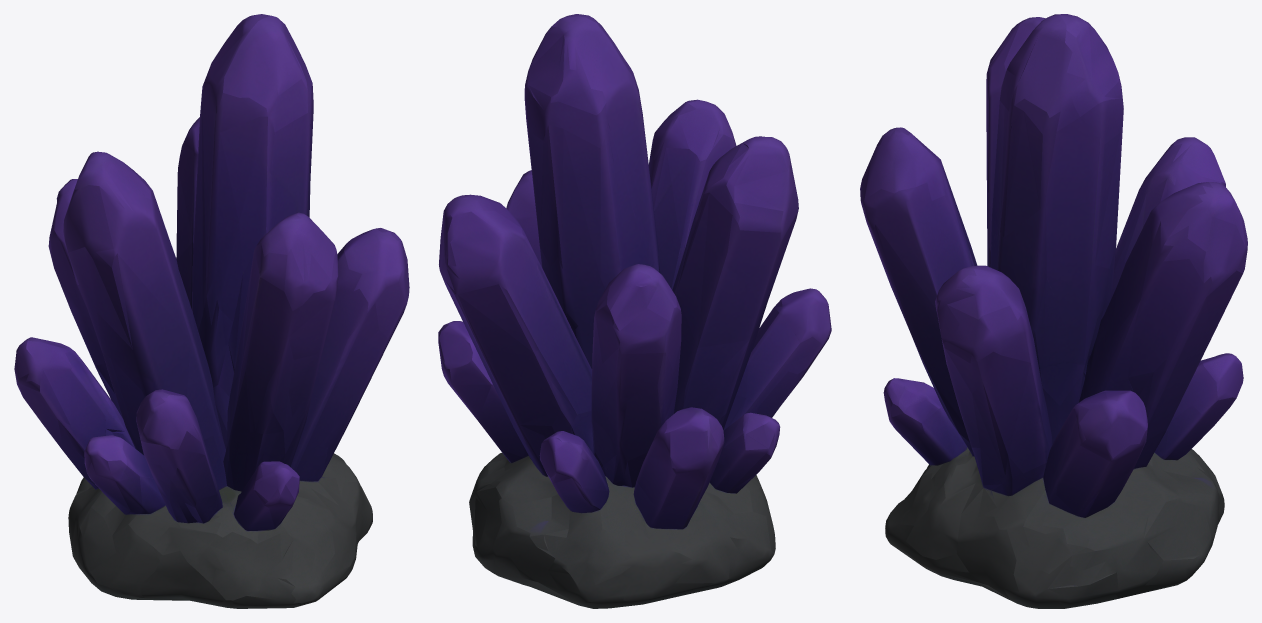
3 renders of one model, left to right at view 1: azimuth 30°, elevation 25°; view 2: azimuth 150°, elevation 25°; view 3: azimuth 270°, elevation 25°, orthographic. The views are drawn at different scales.
Bounding box in the file's own units: 1.2 × 1.9 × 1.2.
Materials: 1 (1 with a texture image).
